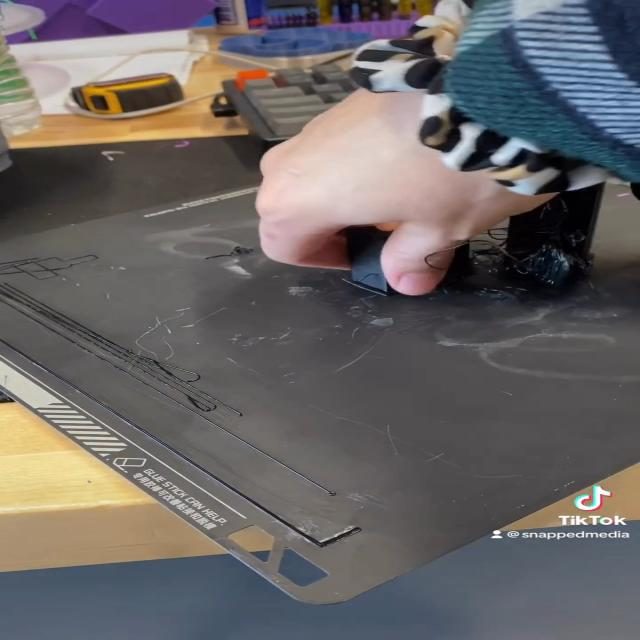spaghetti: (472, 222, 620, 297)
